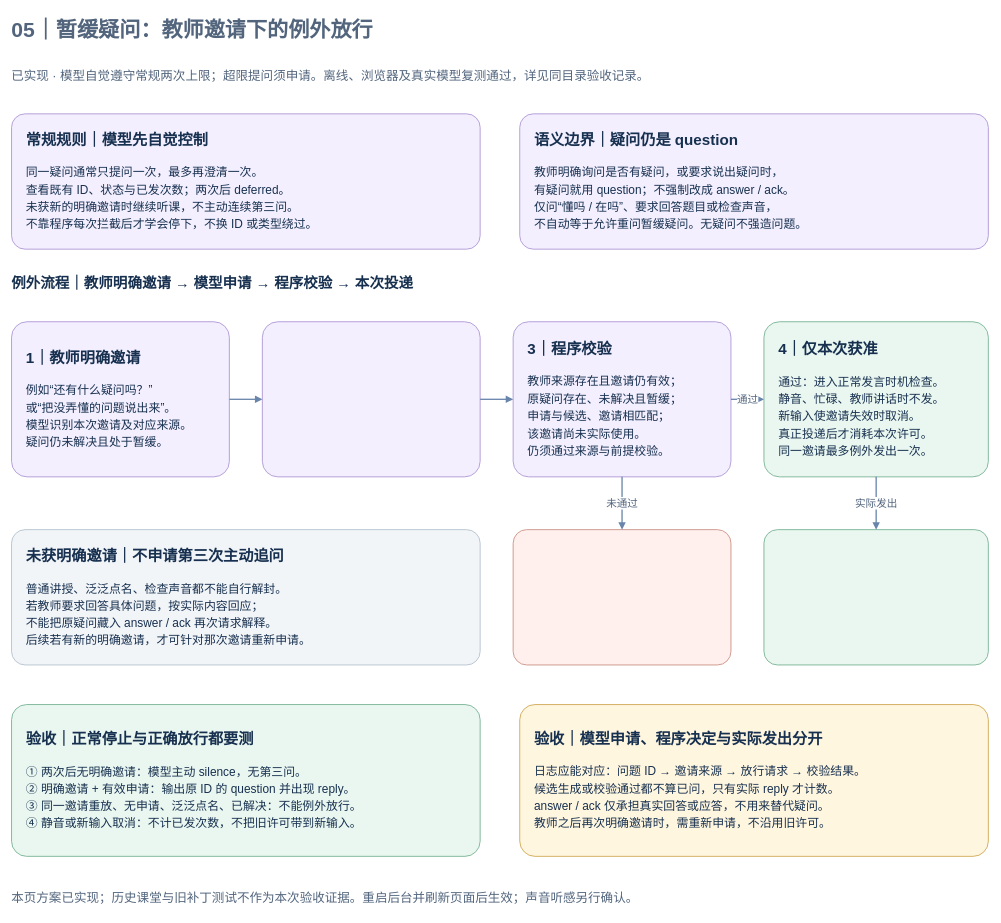
Some shapes in this 1001 by 923 pixel diagram are drawn without their labels. Here are the shapes that lost their labels. From the top down, the centre of each, then its label:
pixel 371 399: 2｜模型附放行请求 候选保持 question。 申请关联原疑问 ID、 本次教师来源、申请理由。 不把“请求”读给教师听； 申请不等于获准或已经发出。
pixel 621 597: 不通过｜保留暂缓 缺少申请、来源不符、已解决， 或同一邀请已经使用：拒绝。 不伪装成 answer 自动放行； 记录原因，保留有效学习进度。
pixel 876 597: 投递后｜照实记录 实际发出后累计次数 +1； 原问题保持 deferred。 不重置两次常规额度， 不因例外许可自动变回 asked。
